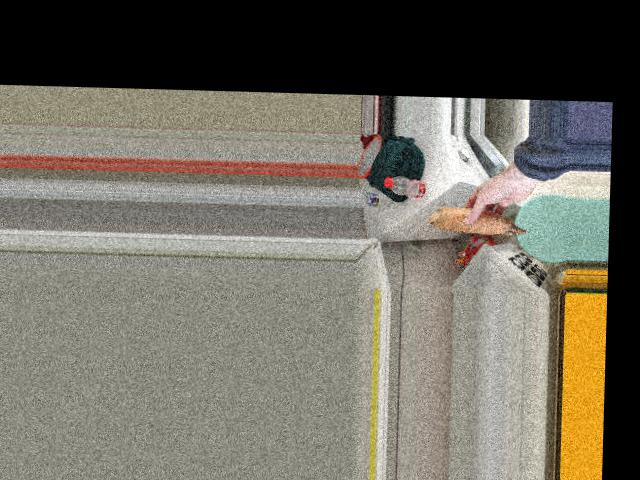sweet_potato: (424, 199, 528, 242)
